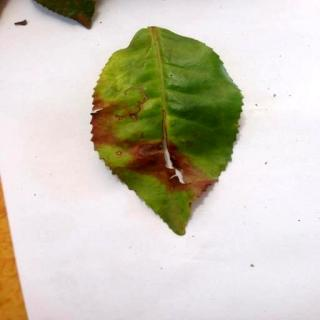Algal Leaf: (93, 29, 245, 239)
